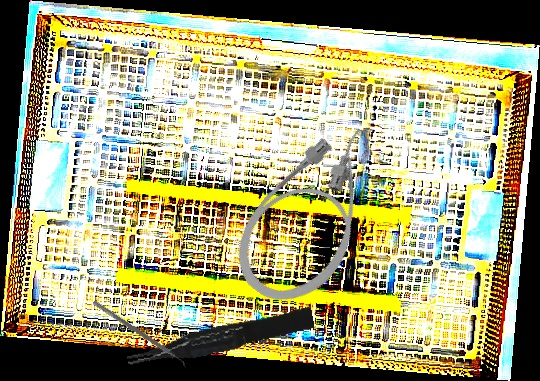Cannula: (217, 108, 412, 322)
Spatula Surgical: (89, 300, 190, 370)
Tissue Forceps: (123, 306, 317, 370)
